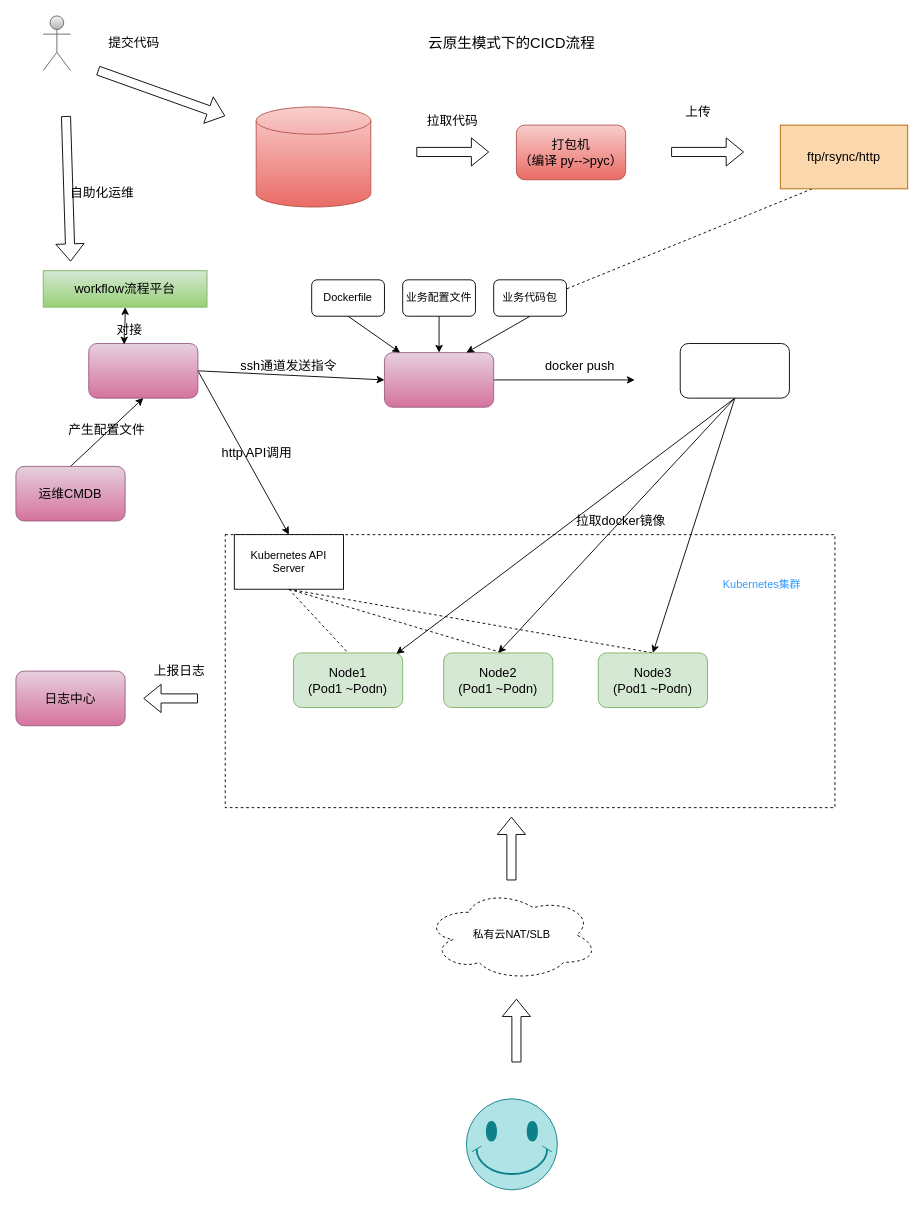
Some shapes in this 924 by 1228 pixel diagram are drawn without their labels. The centre of each missing label's shape, as x and y in pixels:
Docker镜像打包 (docker build): point 439,379
gitlab/svn: point 313,156
公司内DockerHub: point 734,370
玩家/用户: point 511,1144
程序员1: point 56,43
运维控制机: point 143,370
